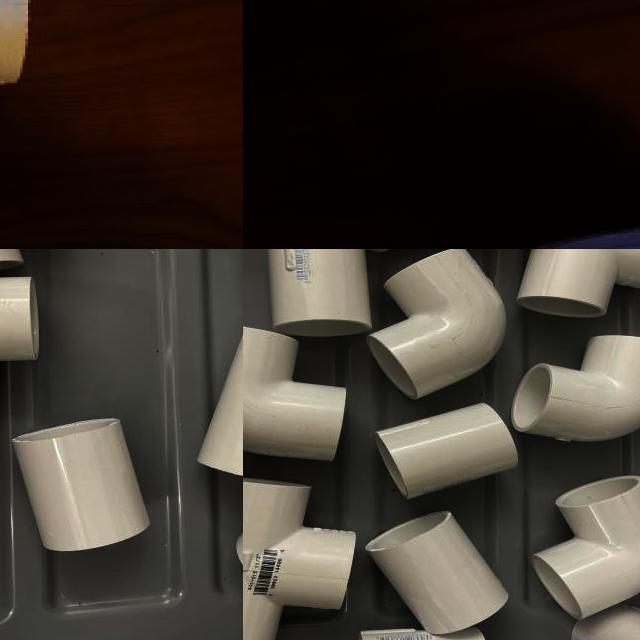L Joint: (366, 249, 501, 400), (531, 476, 640, 623), (243, 327, 346, 464), (512, 336, 640, 444)
T Joint: (243, 478, 358, 640), (517, 249, 640, 320)
